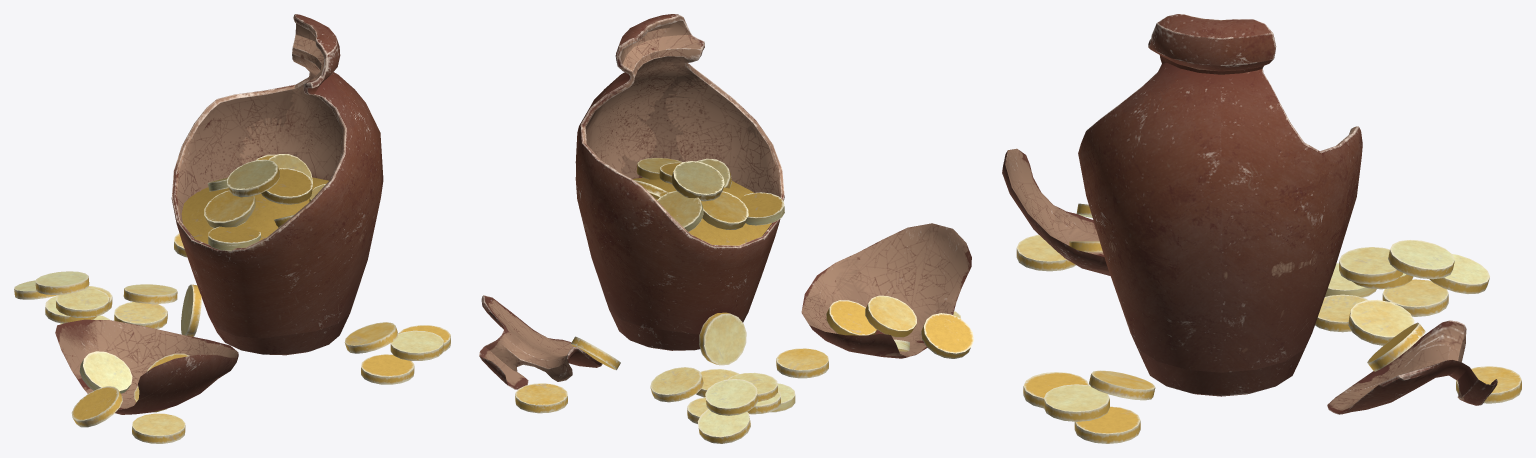
Rendered from coinsclay_game_ready_asset_for_unity_urp.glb.
The picture shows the model from 3 angles, left to right: view 1: azimuth 30°, elevation 25°; view 2: azimuth 150°, elevation 25°; view 3: azimuth 270°, elevation 25°; orthographic projection. The views are drawn at different scales.
Visible parts, largest first — view 1: body; view 2: body; view 3: body.
Part boxes in pixels (x1=…): body: x1=14, y1=14, x2=450, y2=443; body: x1=479, y1=14, x2=973, y2=443; body: x1=1002, y1=14, x2=1521, y2=443.
Size of the model in its own units: 0.8097 by 0.6216 by 0.7877.
1 material, 1 textured.
